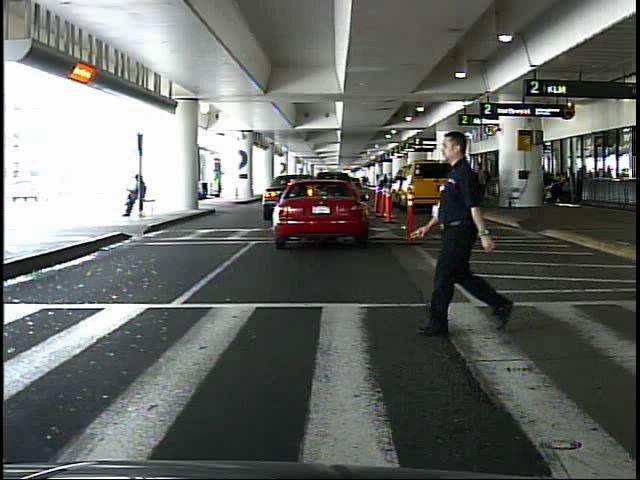person: (425, 115, 503, 335)
